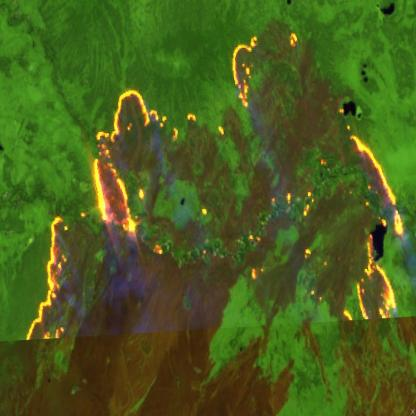fire: (24, 16, 416, 341)
